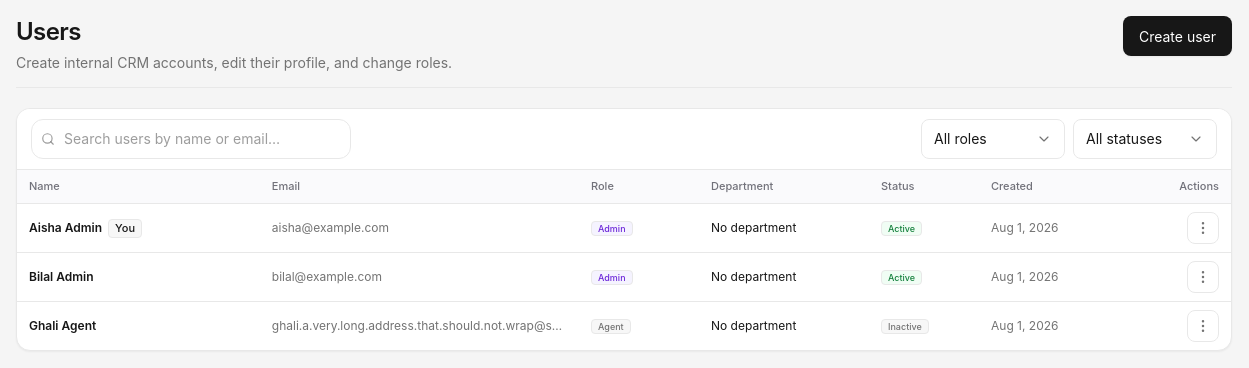
Scenario: users management — table › marks the current user's row with a You badge and disables self-deactivation
Expected: the text "You" is shown, [108,219,142,238]
Click the button named "Actions" in the row of "Aisha Admin": point(1203, 228) [1187,212,1219,244]
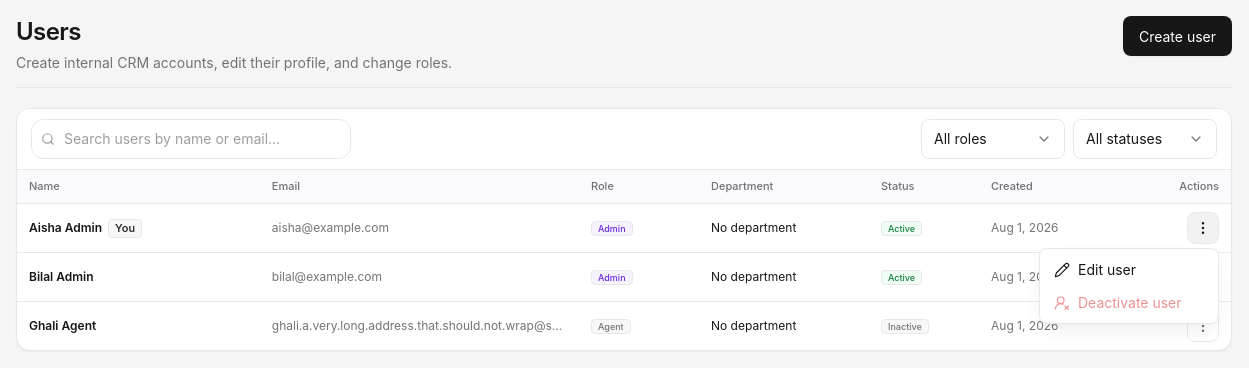
Now the menu item "Deactivate user" is disabled, box [1044,286,1214,319]
